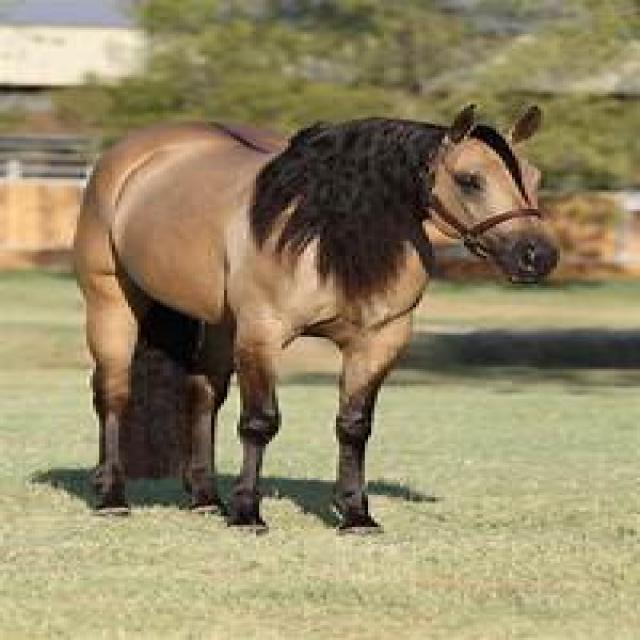horse: (70, 107, 560, 535)
